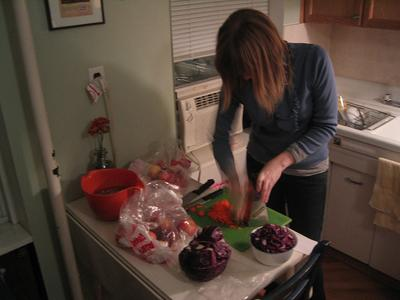person: (208, 8, 342, 244)
